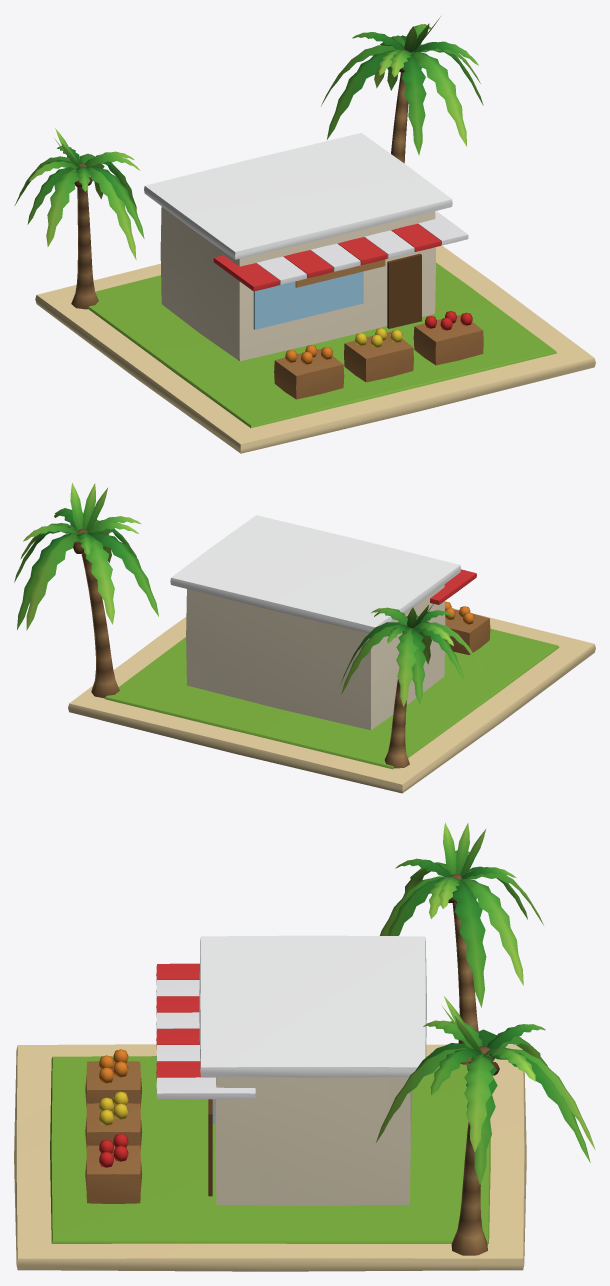
Rendered from Shop.obj.
The picture shows the model from 3 angles, top to bottom: view 1: azimuth 30°, elevation 25°; view 2: azimuth 150°, elevation 25°; view 3: azimuth 270°, elevation 25°; orthographic projection. The views are drawn at different scales.
Visible parts, largest first — view 1: Shop; view 2: Shop; view 3: Shop.
Boxes of the visible parts, bbox=[...] form: Shop: bbox=[14, 16, 595, 453]; Shop: bbox=[14, 482, 595, 793]; Shop: bbox=[14, 822, 595, 1271].
Size of the model in its own units: 4.69 by 2.11 by 4.09.
Materials: 1 (1 with a texture image).
